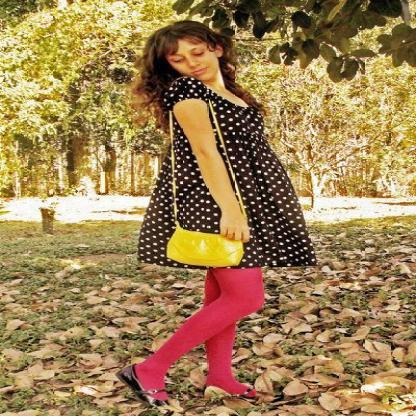bag: (166, 224, 244, 268)
dress: (130, 86, 322, 268)
shoe: (101, 354, 169, 408)
